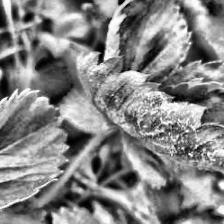Powdery Mildew Leaf: (75, 51, 224, 184), (102, 0, 194, 84)
